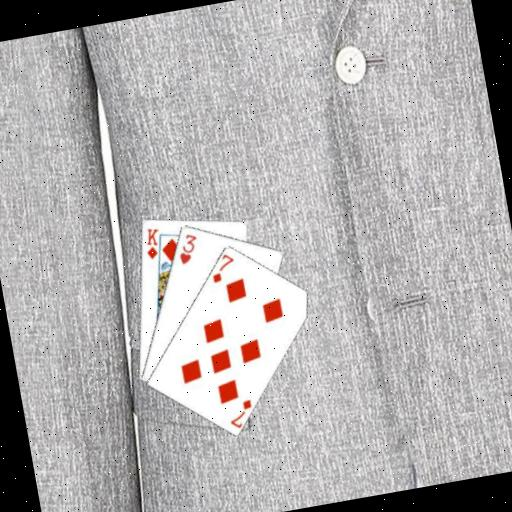3H: (172, 229, 202, 267)
7D: (206, 249, 239, 284), (223, 395, 256, 430)
KD: (139, 224, 164, 262)
